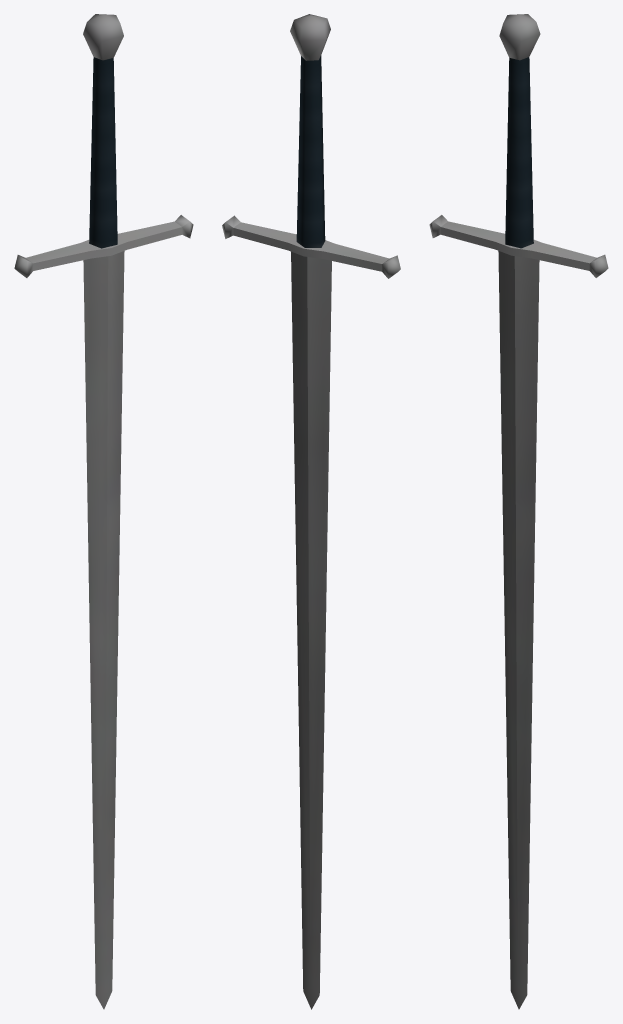
File: Sword.fbx
3 renders of one model, left to right at view 1: azimuth 30°, elevation 25°; view 2: azimuth 150°, elevation 25°; view 3: azimuth 330°, elevation 25°, orthographic.
Parts seen in each view (by area): view 1: LongSword; view 2: LongSword; view 3: LongSword.
Boxes of the visible parts, x1,y1,x2,y2 form: LongSword: (14,14,193,1009); LongSword: (222,14,400,1009); LongSword: (429,14,608,1009).
Size of the model in its own units: 22.59 by 120 by 4.3.
